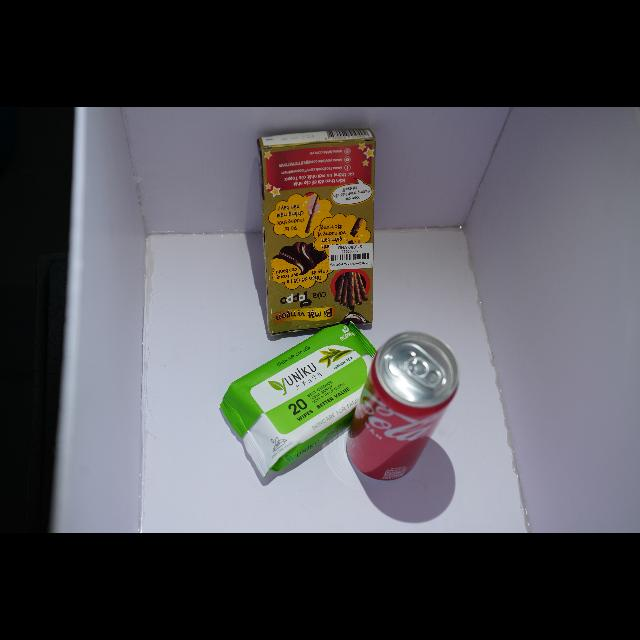banh_toppo_socola: (258, 129, 376, 334)
coca_cola: (347, 332, 459, 480)
khan_giay: (220, 323, 376, 477)
